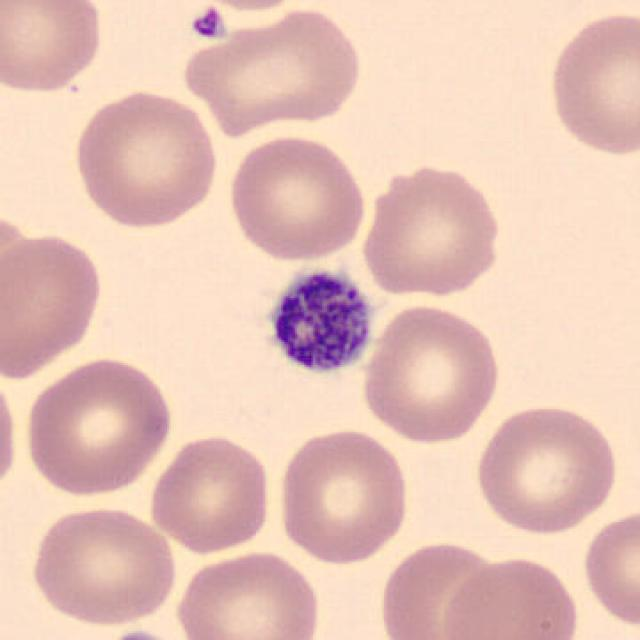Platelets: (259, 261, 377, 377), (185, 4, 229, 44)
RBC: (178, 2, 366, 134), (19, 353, 178, 499), (70, 85, 222, 231), (357, 300, 505, 446), (357, 158, 507, 300), (471, 400, 622, 538), (274, 425, 412, 568), (27, 500, 180, 628), (224, 130, 370, 264), (146, 430, 276, 556), (0, 227, 105, 381), (542, 7, 638, 160), (172, 548, 326, 640), (375, 536, 507, 640), (437, 552, 583, 640), (0, 0, 107, 97), (580, 502, 638, 633), (0, 365, 23, 502), (181, 0, 320, 14)
